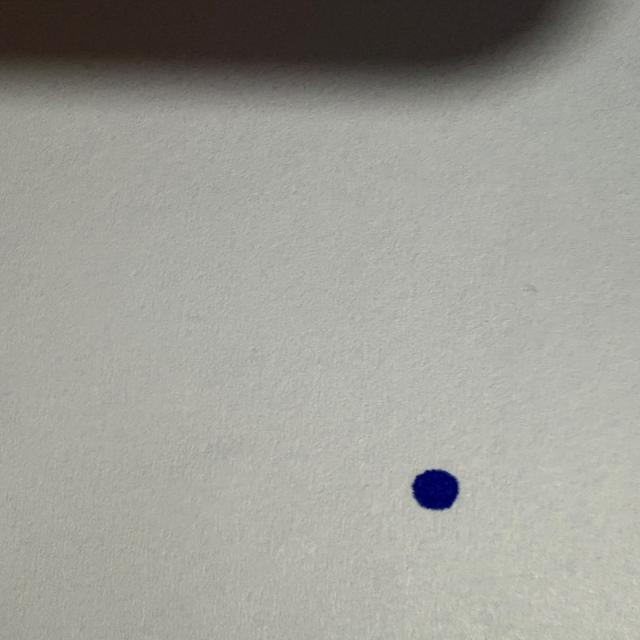Circle: (404, 464, 466, 518)
